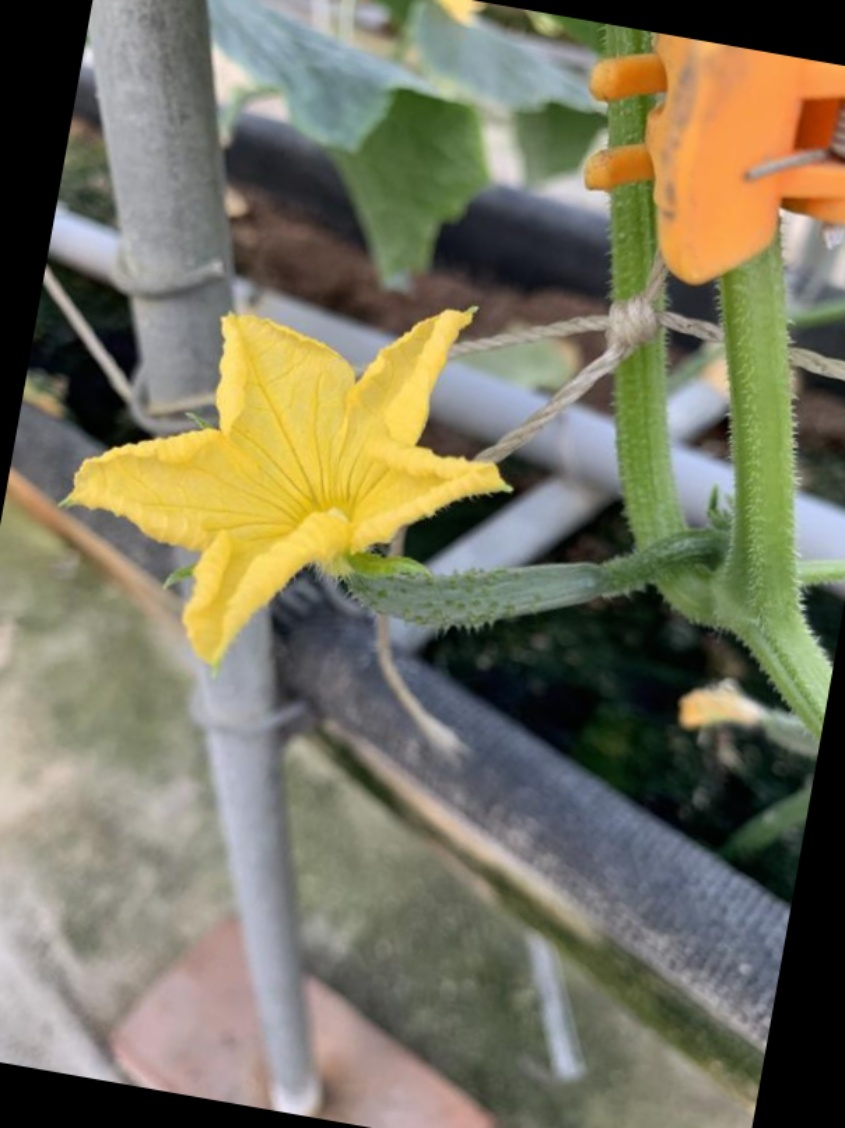flowering: (59, 296, 602, 670)
